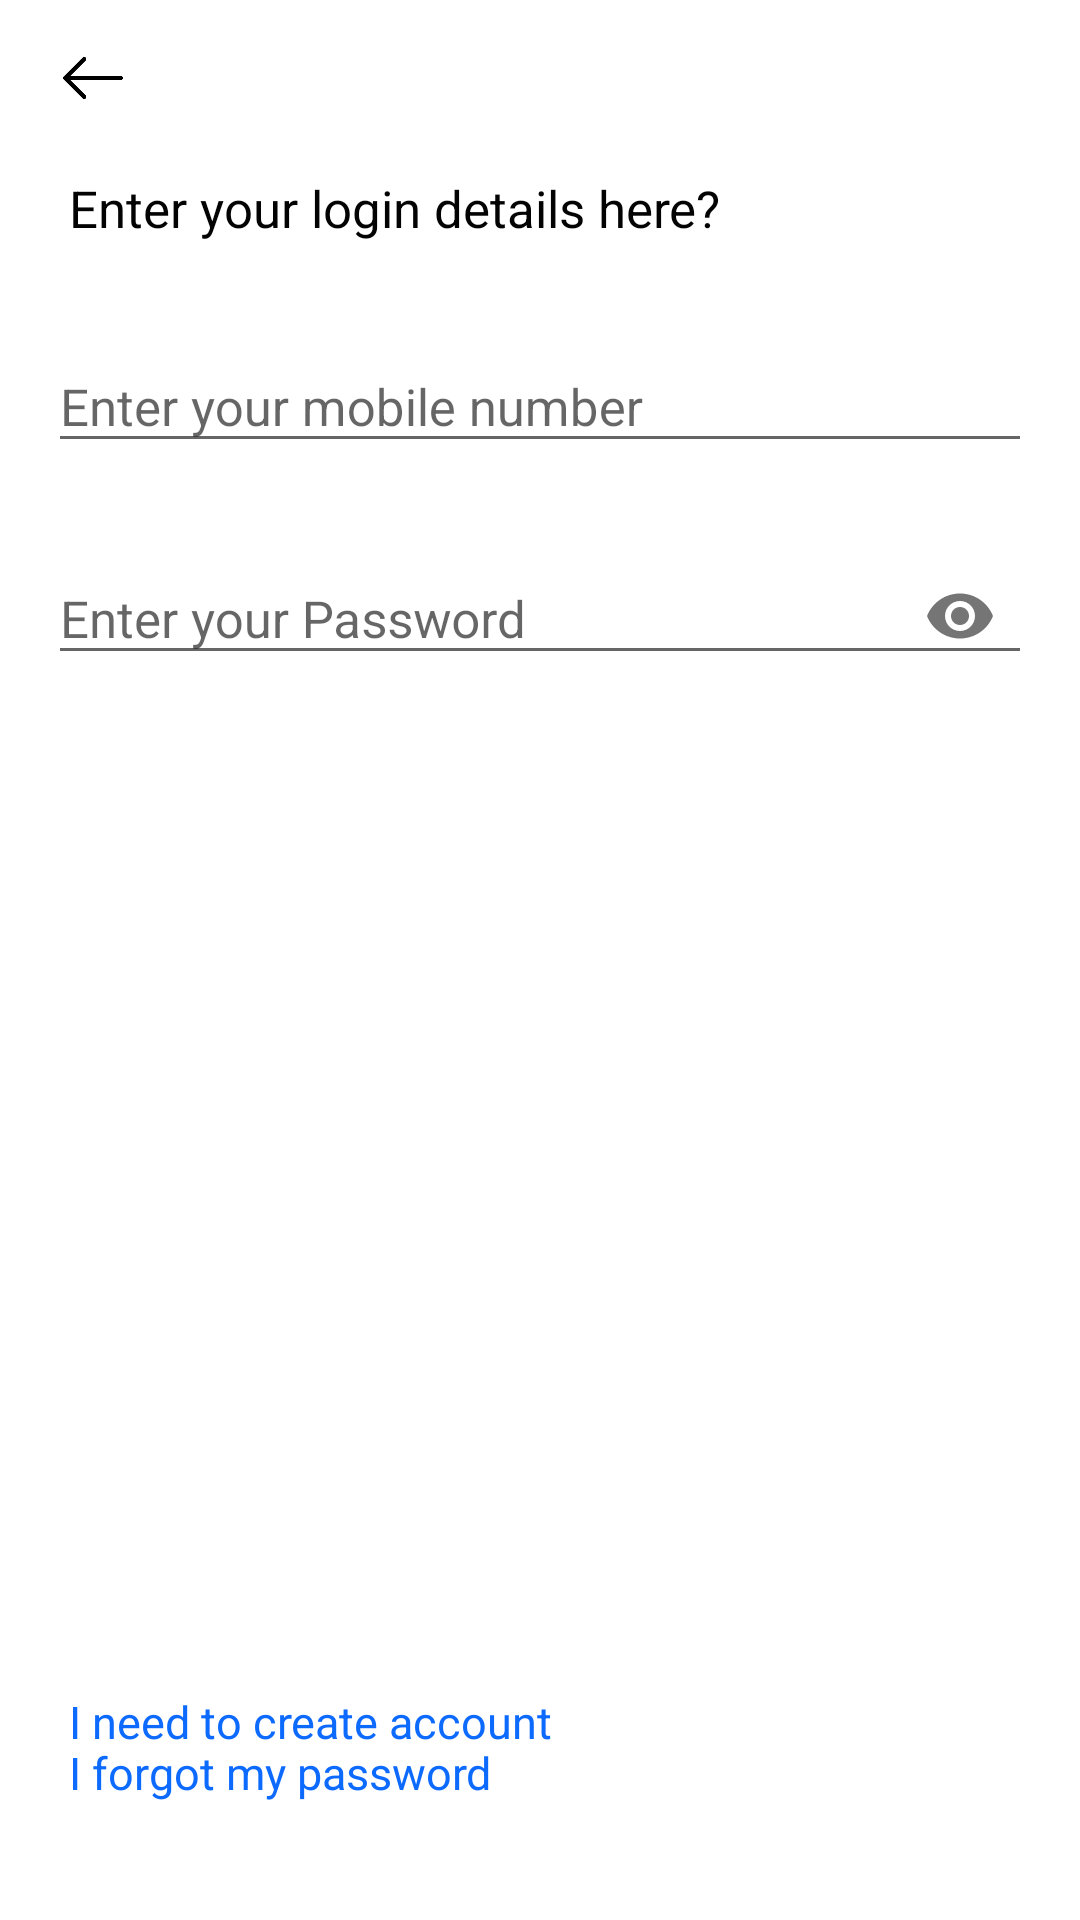

Named icons in this screenshot (1080*1920) and their bounding boxes, (x1, y1, x2, y2):
leftarrow: (63, 57, 123, 99)
